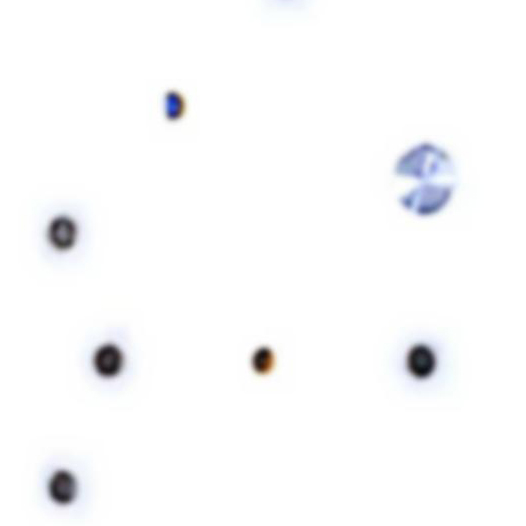abnormal: (380, 121, 480, 232)
cancer: (71, 315, 158, 403), (30, 195, 101, 279), (379, 327, 455, 402), (31, 445, 102, 524)
normal: (141, 75, 205, 143), (238, 328, 302, 391)
